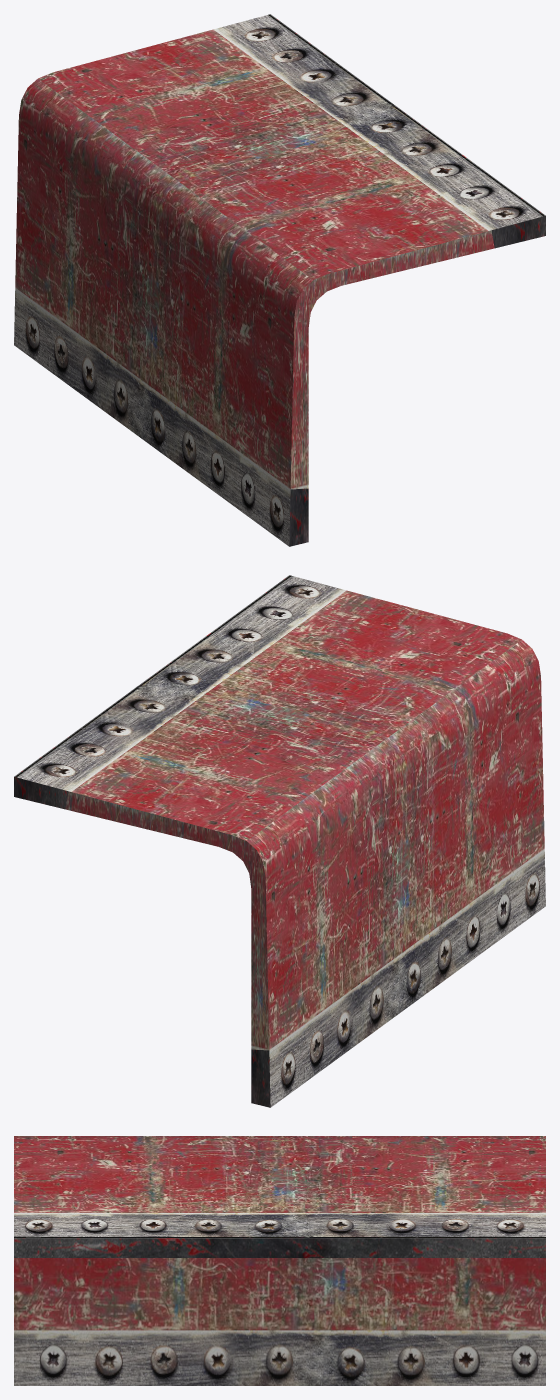
Rendered from MOD_WallProtect_100.FBX.
3 renders of one model, top to bottom at view 1: azimuth 30°, elevation 25°; view 2: azimuth 150°, elevation 25°; view 3: azimuth 270°, elevation 25°, orthographic. The views are drawn at different scales.
Visible parts, largest first — view 1: MOD_WallProtect_100; view 2: MOD_WallProtect_100; view 3: MOD_WallProtect_100.
Boxes of the visible parts, <box> form: MOD_WallProtect_100: <box>14,14,545,546</box>; MOD_WallProtect_100: <box>14,575,545,1107</box>; MOD_WallProtect_100: <box>14,1136,545,1385</box>.
Bounding box in the file's own units: 54.07 × 54.07 × 101.
Materials: 1 (1 with a texture image).
